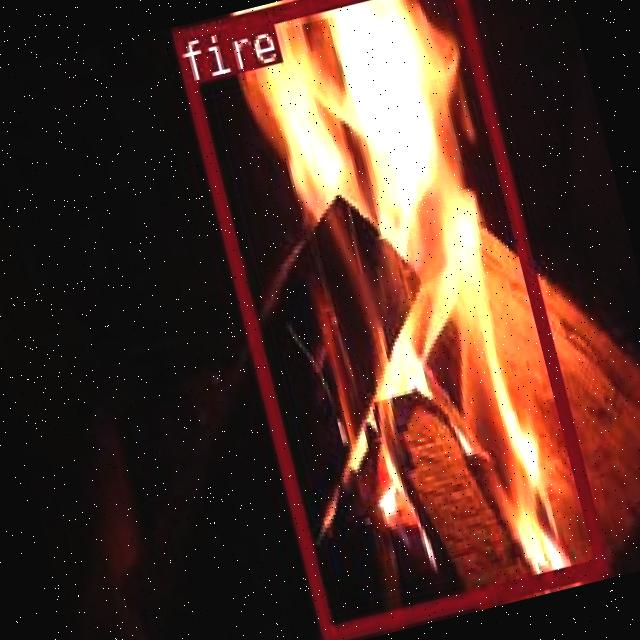fire: (168, 0, 605, 640)
